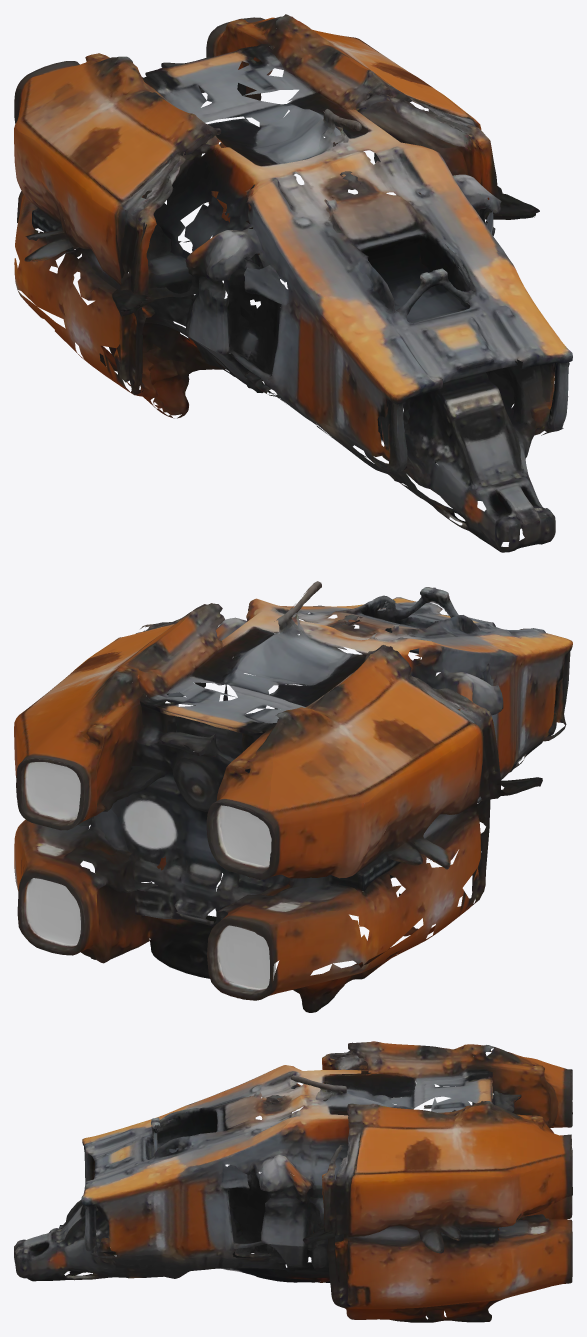
Rendered from prop_wreck.glb.
The picture shows the model from 3 angles, top to bottom: view 1: azimuth 30°, elevation 25°; view 2: azimuth 150°, elevation 25°; view 3: azimuth 270°, elevation 25°; orthographic projection. The views are drawn at different scales.
Visible parts, largest first — view 1: geometry_0.310; view 2: geometry_0.310; view 3: geometry_0.310.
Part boxes in pixels (x1,y1,x2,y2): geometry_0.310: (14, 14, 572, 552); geometry_0.310: (14, 581, 572, 1012); geometry_0.310: (14, 1041, 572, 1322).
Bounding box in the file's own units: 0.6296 × 0.4272 × 0.9998.
Materials: 1 (1 with a texture image).
